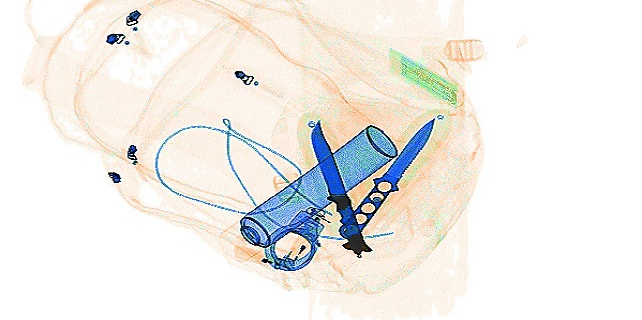handcuffs: (261, 202, 326, 271)
knife: (337, 106, 451, 241), (295, 108, 371, 257)
lighter: (233, 242, 280, 270), (280, 231, 310, 267)
pressure: (218, 123, 398, 262)
